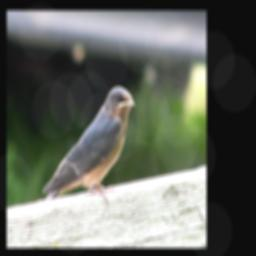Swallow: (41, 86, 136, 207)
